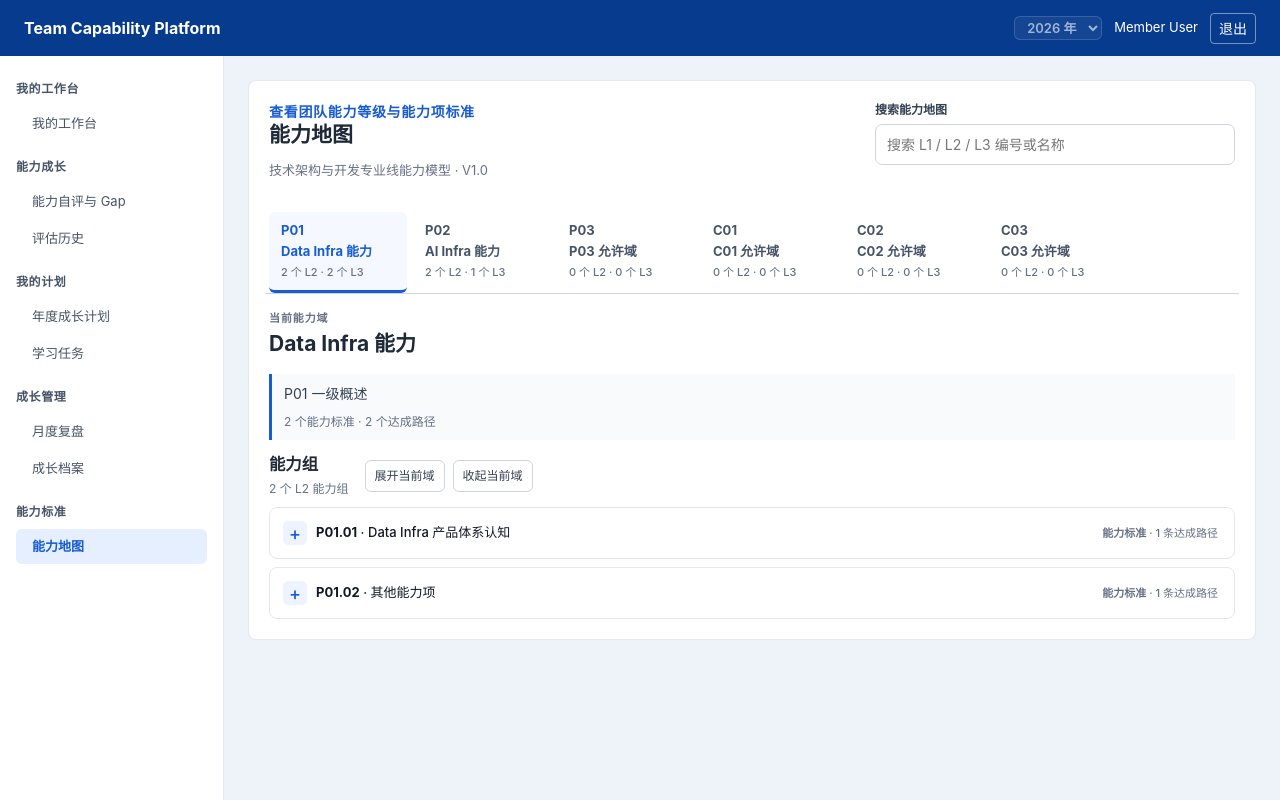
Test: catalog routes › renders the read-only capability tree with unmatched material warning
The width and height of the screenshot is (1280, 800).
Expected: the tab "P01 Data Infra 能力 2 个 L2 · 2 个 L3" is shown, [269,212,407,293]
Step 1. Click the button with test id "l2-toggle-P01.01" → (337, 532), box [275,513,1226,553]
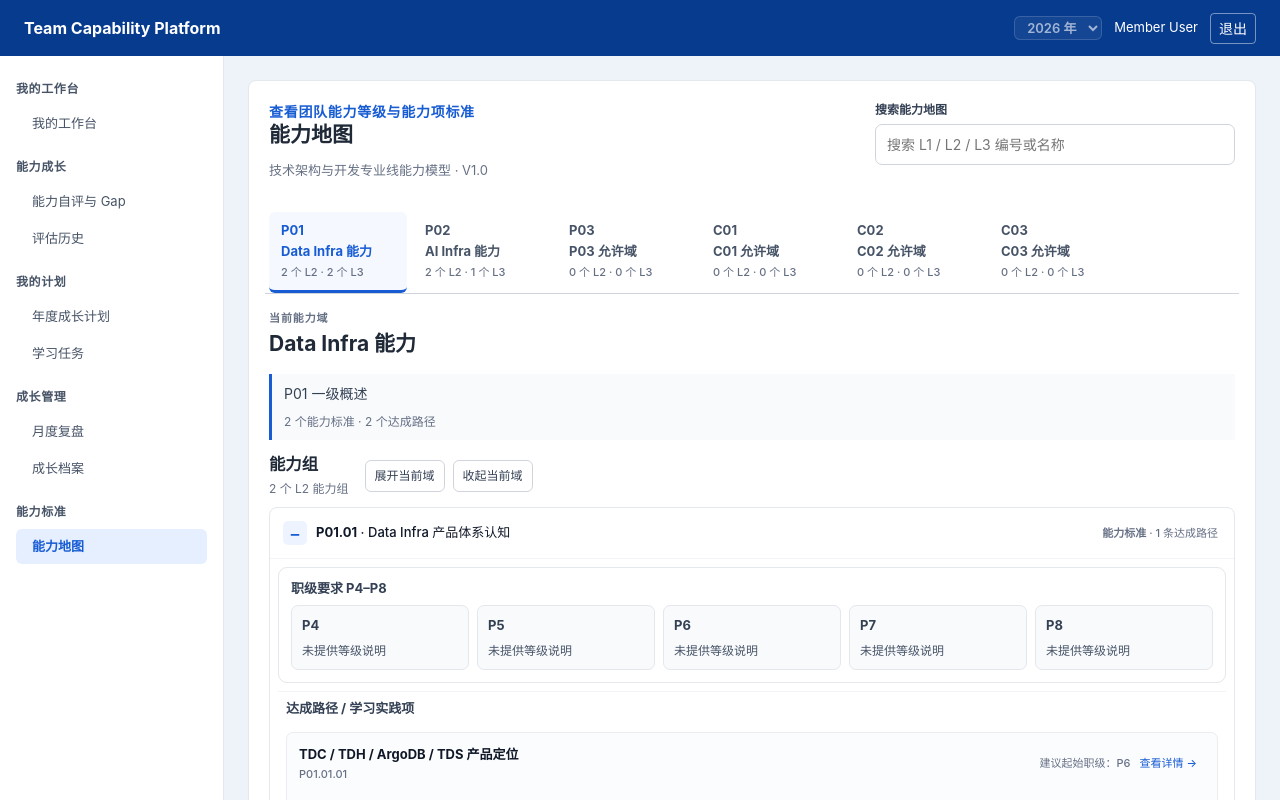
Expected: the tab "P01 Data Infra 能力 2 个 L2 · 2 个 L3" is shown, [269,212,407,293]
Expected: the text "TDC / TDH / ArgoDB / TDS 产品定位" is shown, [299,744,519,764]
Expected: the heading "职级要求 P4–P8" is shown, [291,580,387,596]
